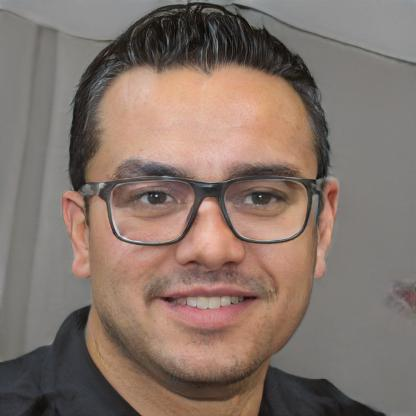glasses: (83, 172, 320, 247)
